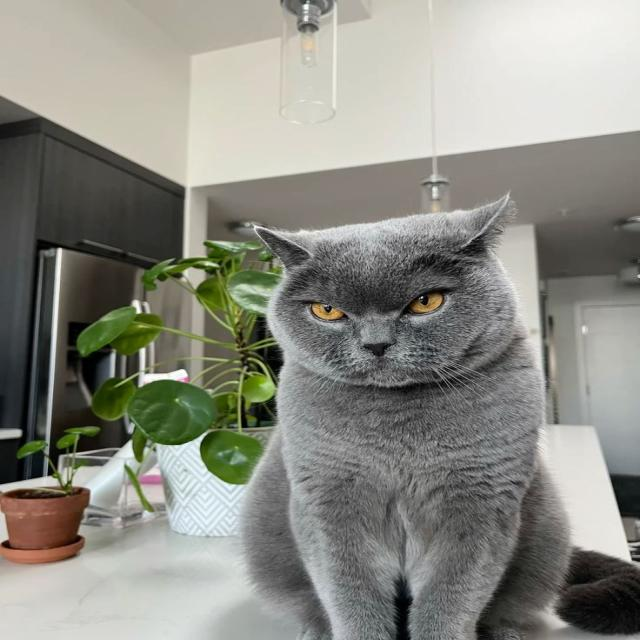british shorthair: (240, 194, 639, 639)
